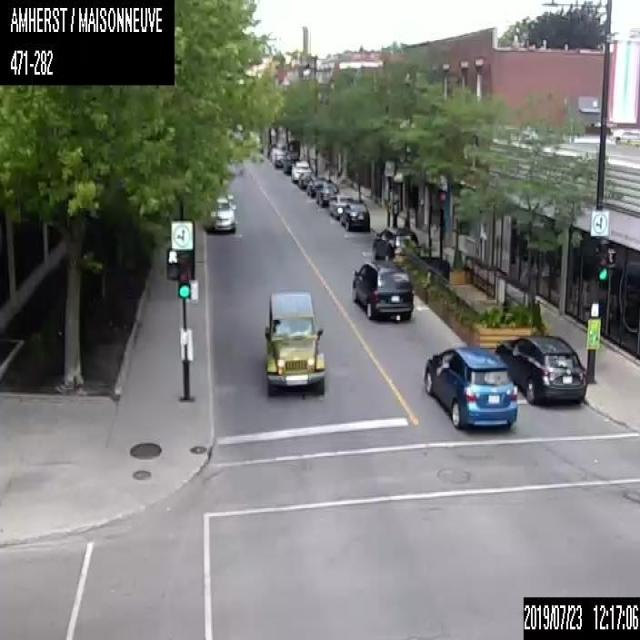vehicle: (423, 345, 517, 428), (264, 288, 326, 396), (495, 333, 586, 403), (352, 260, 414, 319), (372, 226, 417, 258), (210, 195, 234, 232), (340, 202, 369, 230), (328, 192, 354, 218), (290, 160, 312, 182), (316, 184, 336, 207), (283, 152, 299, 174), (306, 178, 324, 197), (298, 172, 314, 188)
